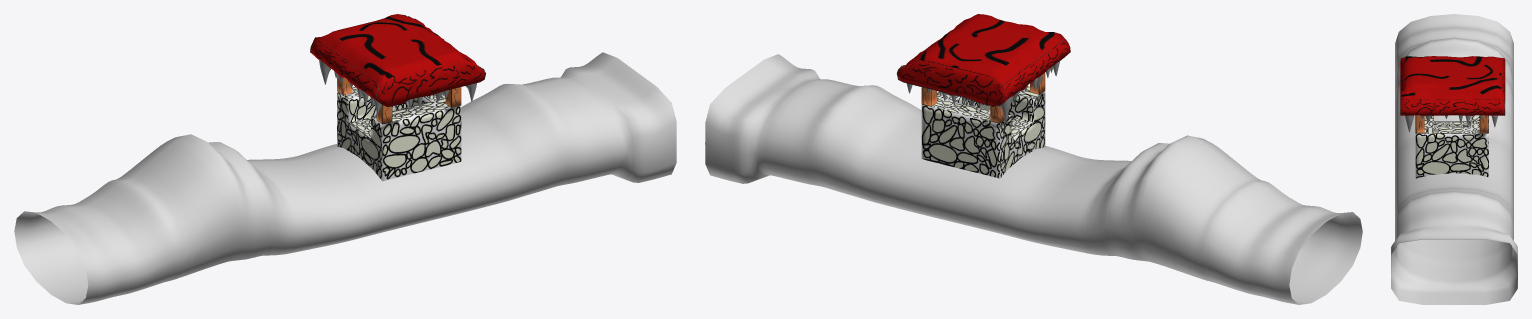
The model's file is screen_04_00.obj.
The picture shows the model from 3 angles, left to right: view 1: azimuth 30°, elevation 25°; view 2: azimuth 150°, elevation 25°; view 3: azimuth 270°, elevation 25°; orthographic projection. The views are drawn at different scales.
Visible parts, largest first — view 1: Ground.000_Cube.010, Cube.009_Cube.005, Well_Icicles_Cube.006; view 2: Ground.000_Cube.010, Cube.009_Cube.005, Well_Icicles_Cube.006; view 3: Ground.000_Cube.010, Cube.009_Cube.005, Well_Icicles_Cube.006.
Part boxes in pixels (box(x1,y1,x2,y2)): Ground.000_Cube.010: box(14, 52, 676, 304); Cube.009_Cube.005: box(310, 14, 486, 181); Well_Icicles_Cube.006: box(319, 59, 476, 114); Ground.000_Cube.010: box(705, 54, 1362, 304); Cube.009_Cube.005: box(896, 14, 1070, 178); Well_Icicles_Cube.006: box(906, 61, 1059, 121); Ground.000_Cube.010: box(1391, 14, 1517, 304); Cube.009_Cube.005: box(1400, 56, 1505, 178); Well_Icicles_Cube.006: box(1405, 115, 1497, 132).
Bounding box in the file's own units: 34.27 × 9.65 × 8.
